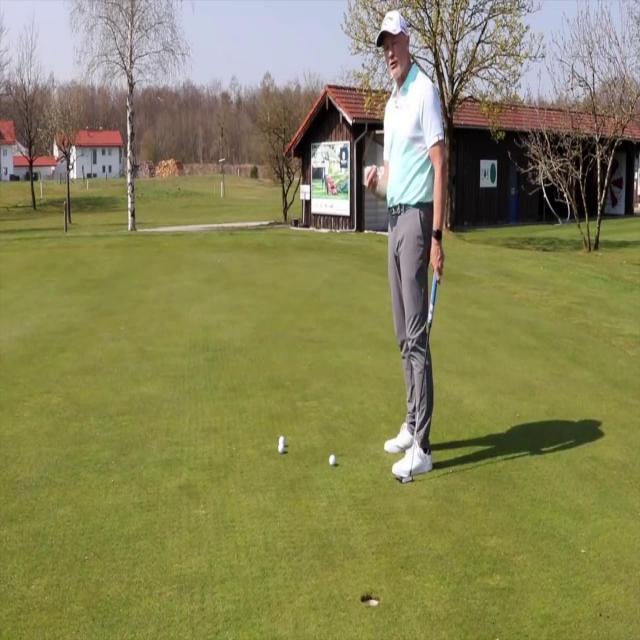GolfBall: (325, 446, 340, 476), (275, 434, 289, 449), (275, 443, 287, 456)
